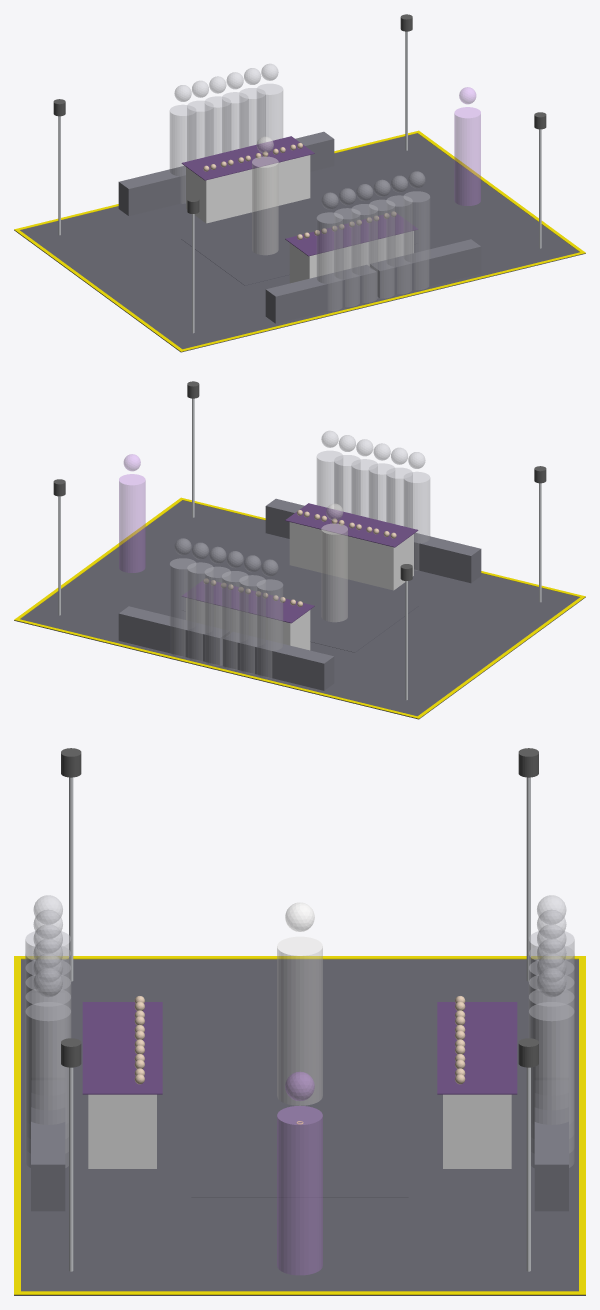
The model's file is G10_THE_HIDDEN_RING.glb.
3 views of the same model, one above another, from view 1: azimuth 30°, elevation 25°; view 2: azimuth 150°, elevation 25°; view 3: azimuth 270°, elevation 25° (orthographic). The views are drawn at different scales.
Visible parts, largest first — view 1: floor_area, finder_lane, table_1, bench_-1_-0.45, bench_-1_0.45, table_-1, finder_body, operator_body, bench_1_-0.45, velvet_cloth_1, player_-1_3_body, velvet_cloth_-1 (+16 smaller); view 2: floor_area, finder_lane, table_-1, bench_1_-0.45, bench_1_0.45, table_1, finder_body, operator_body, bench_-1_-0.45, velvet_cloth_-1, player_1_3_body, velvet_cloth_1 (+16 smaller); view 3: floor_area, finder_lane, operator_body, finder_body, velvet_cloth_-1, velvet_cloth_1, player_-1_5_body, player_1_5_body, player_-1_4_body, player_1_4_body, table_-1, table_1 (+24 smaller).
Part boxes in pixels (bbox=[...]): floor_area: bbox=[14, 133, 585, 352]; finder_lane: bbox=[181, 197, 417, 285]; table_1: bbox=[186, 155, 310, 223]; bench_-1_-0.45: bbox=[265, 265, 376, 323]; bench_-1_0.45: bbox=[370, 239, 481, 298]; table_-1: bbox=[289, 231, 413, 283]; finder_body: bbox=[252, 156, 278, 255]; operator_body: bbox=[454, 107, 480, 205]; bench_1_-0.45: bbox=[118, 166, 185, 216]; velvet_cloth_1: bbox=[181, 136, 314, 180]; player_-1_3_body: bbox=[369, 199, 395, 298]; velvet_cloth_-1: bbox=[285, 213, 417, 256]; floor_area: bbox=[14, 500, 585, 719]; finder_lane: bbox=[182, 564, 418, 652]; table_-1: bbox=[289, 522, 413, 590]; bench_1_-0.45: bbox=[223, 632, 334, 690]; bench_1_0.45: bbox=[118, 606, 229, 665]; table_1: bbox=[186, 598, 310, 650]; finder_body: bbox=[321, 523, 347, 622]; operator_body: bbox=[119, 474, 145, 572]; bench_-1_-0.45: bbox=[414, 533, 481, 583]; velvet_cloth_-1: bbox=[285, 503, 418, 547]; player_1_3_body: bbox=[204, 566, 230, 665]; velvet_cloth_1: bbox=[182, 580, 314, 623]; floor_area: bbox=[14, 959, 585, 1295]; finder_lane: bbox=[191, 1052, 408, 1197]; operator_body: bbox=[277, 1106, 322, 1275]; finder_body: bbox=[277, 936, 322, 1105]; velvet_cloth_-1: bbox=[82, 1002, 162, 1094]; velvet_cloth_1: bbox=[437, 1002, 517, 1094]; player_-1_5_body: bbox=[25, 1002, 71, 1167]; player_1_5_body: bbox=[528, 1002, 574, 1167]; player_-1_4_body: bbox=[25, 988, 71, 1152]; player_1_4_body: bbox=[528, 988, 574, 1152]; table_-1: bbox=[88, 1094, 156, 1168]; table_1: bbox=[443, 1094, 511, 1168].
Bounding box in the file's own units: 7 × 2.21 × 5.
